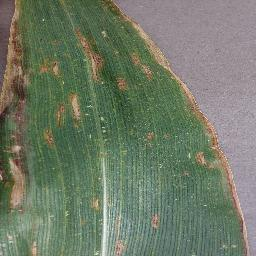Corn_Blight: (0, 0, 42, 220), (192, 107, 246, 202), (42, 58, 83, 149), (154, 53, 202, 105), (47, 24, 105, 54), (118, 15, 159, 51), (84, 53, 107, 94), (236, 203, 252, 256), (0, 238, 43, 254), (134, 52, 153, 82), (142, 129, 173, 145), (112, 234, 128, 254), (149, 210, 164, 231), (110, 75, 131, 90), (103, 0, 126, 13), (92, 199, 102, 211)
